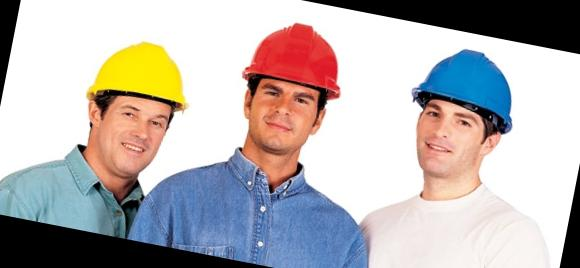helmet: (82, 30, 202, 116), (238, 11, 353, 100)
no_wear: (133, 149, 381, 268), (350, 182, 568, 268), (0, 155, 147, 239)
